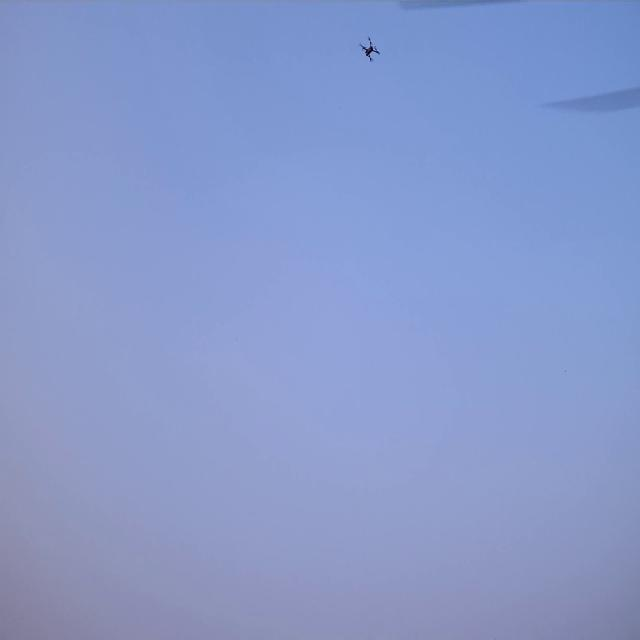UAV: (362, 38, 378, 62)
